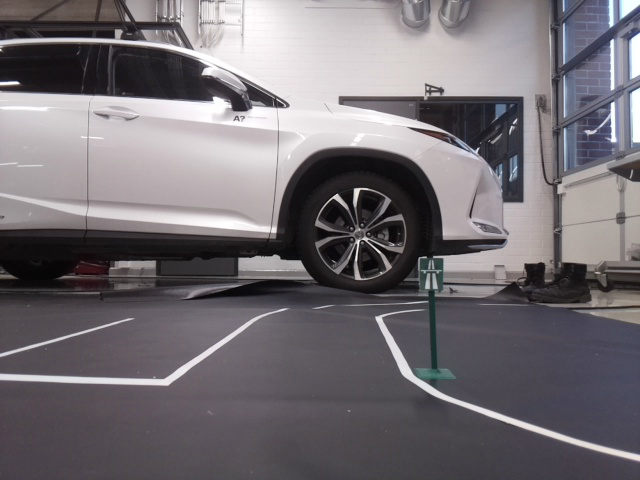HighwayEntrance: (420, 258, 441, 289)
